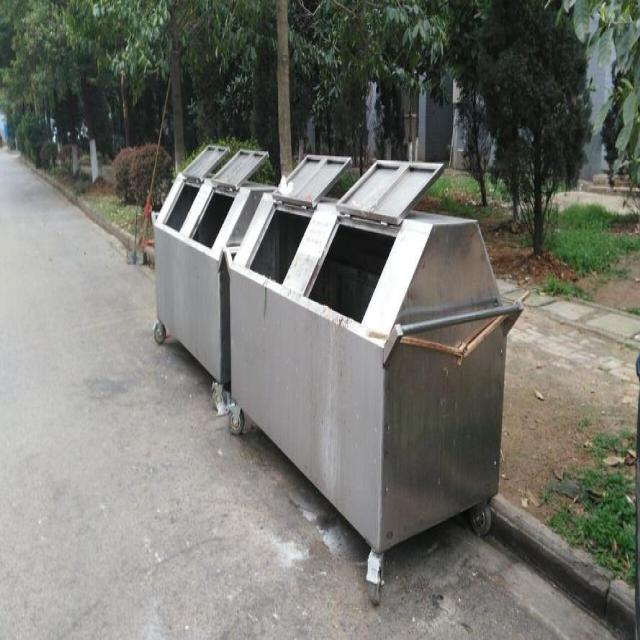garbage_bin: (230, 187, 521, 548), (154, 174, 275, 382)
